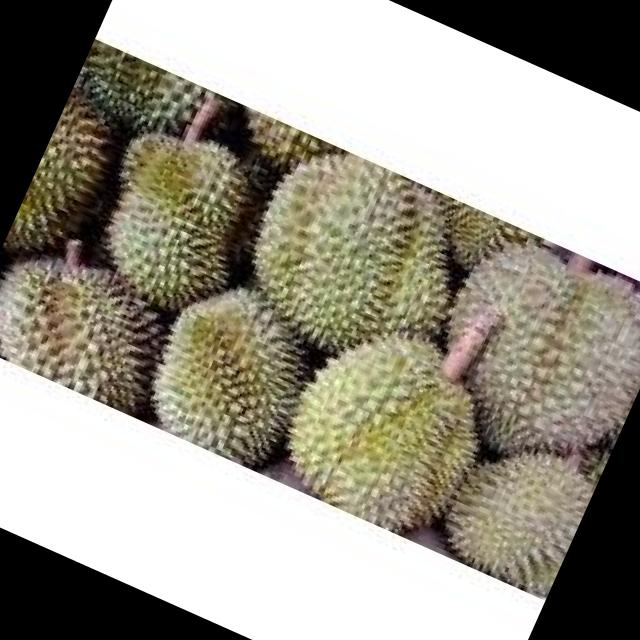fruit: (198, 118, 514, 424), (33, 92, 300, 400), (391, 206, 640, 511), (258, 283, 528, 556), (127, 248, 355, 481), (0, 57, 160, 304), (423, 404, 609, 598)
